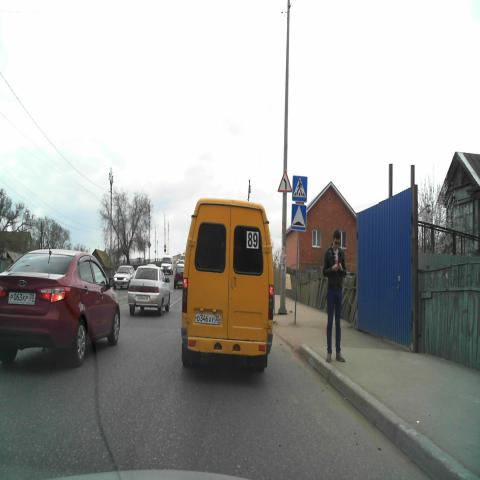1_11_1: (277, 170, 291, 192)
